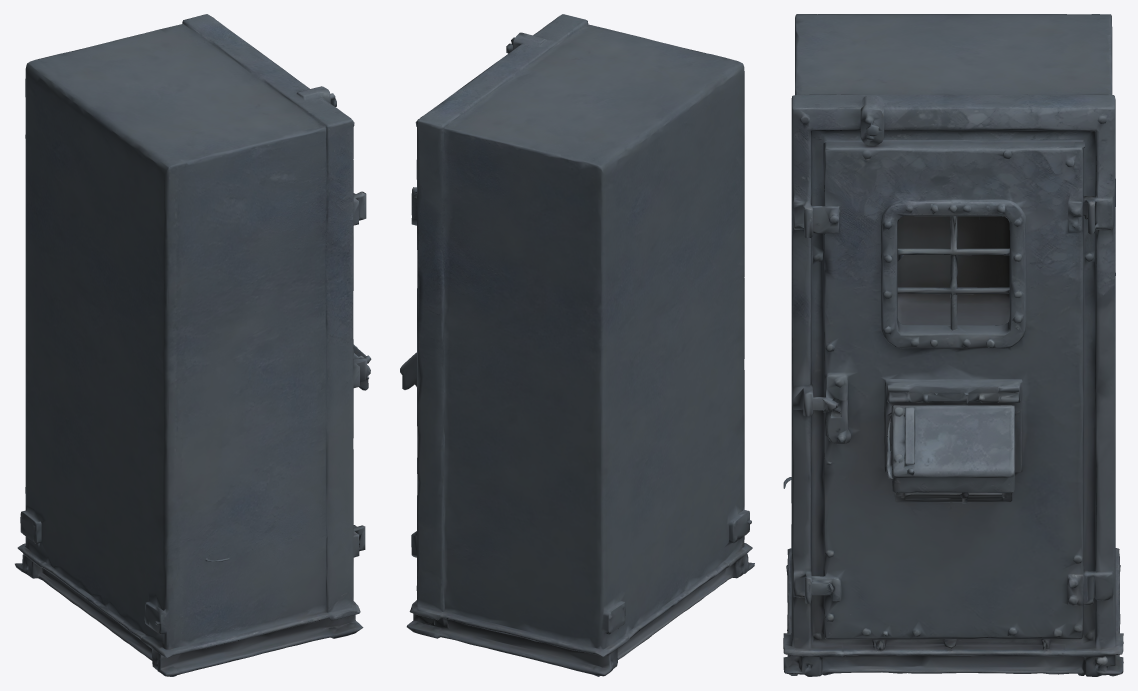
Rendered from cell-door.glb.
3 views of the same model, side by side, from view 1: azimuth 30°, elevation 25°; view 2: azimuth 150°, elevation 25°; view 3: azimuth 270°, elevation 25° (orthographic). The views are drawn at different scales.
Visible parts, largest first — view 1: tripo_node_01a2180b-0187-7bfb-bdbe-3e3b2b49b387; view 2: tripo_node_01a2180b-0187-7bfb-bdbe-3e3b2b49b387; view 3: tripo_node_01a2180b-0187-7bfb-bdbe-3e3b2b49b387.
Part boxes in pixels (<box>): tripo_node_01a2180b-0187-7bfb-bdbe-3e3b2b49b387: <box>15,14,371,676</box>; tripo_node_01a2180b-0187-7bfb-bdbe-3e3b2b49b387: <box>400,14,754,676</box>; tripo_node_01a2180b-0187-7bfb-bdbe-3e3b2b49b387: <box>783,14,1123,676</box>.
Bounding box in the file's own units: 0.5351 × 1 × 0.5396.
1 material, 1 textured.
